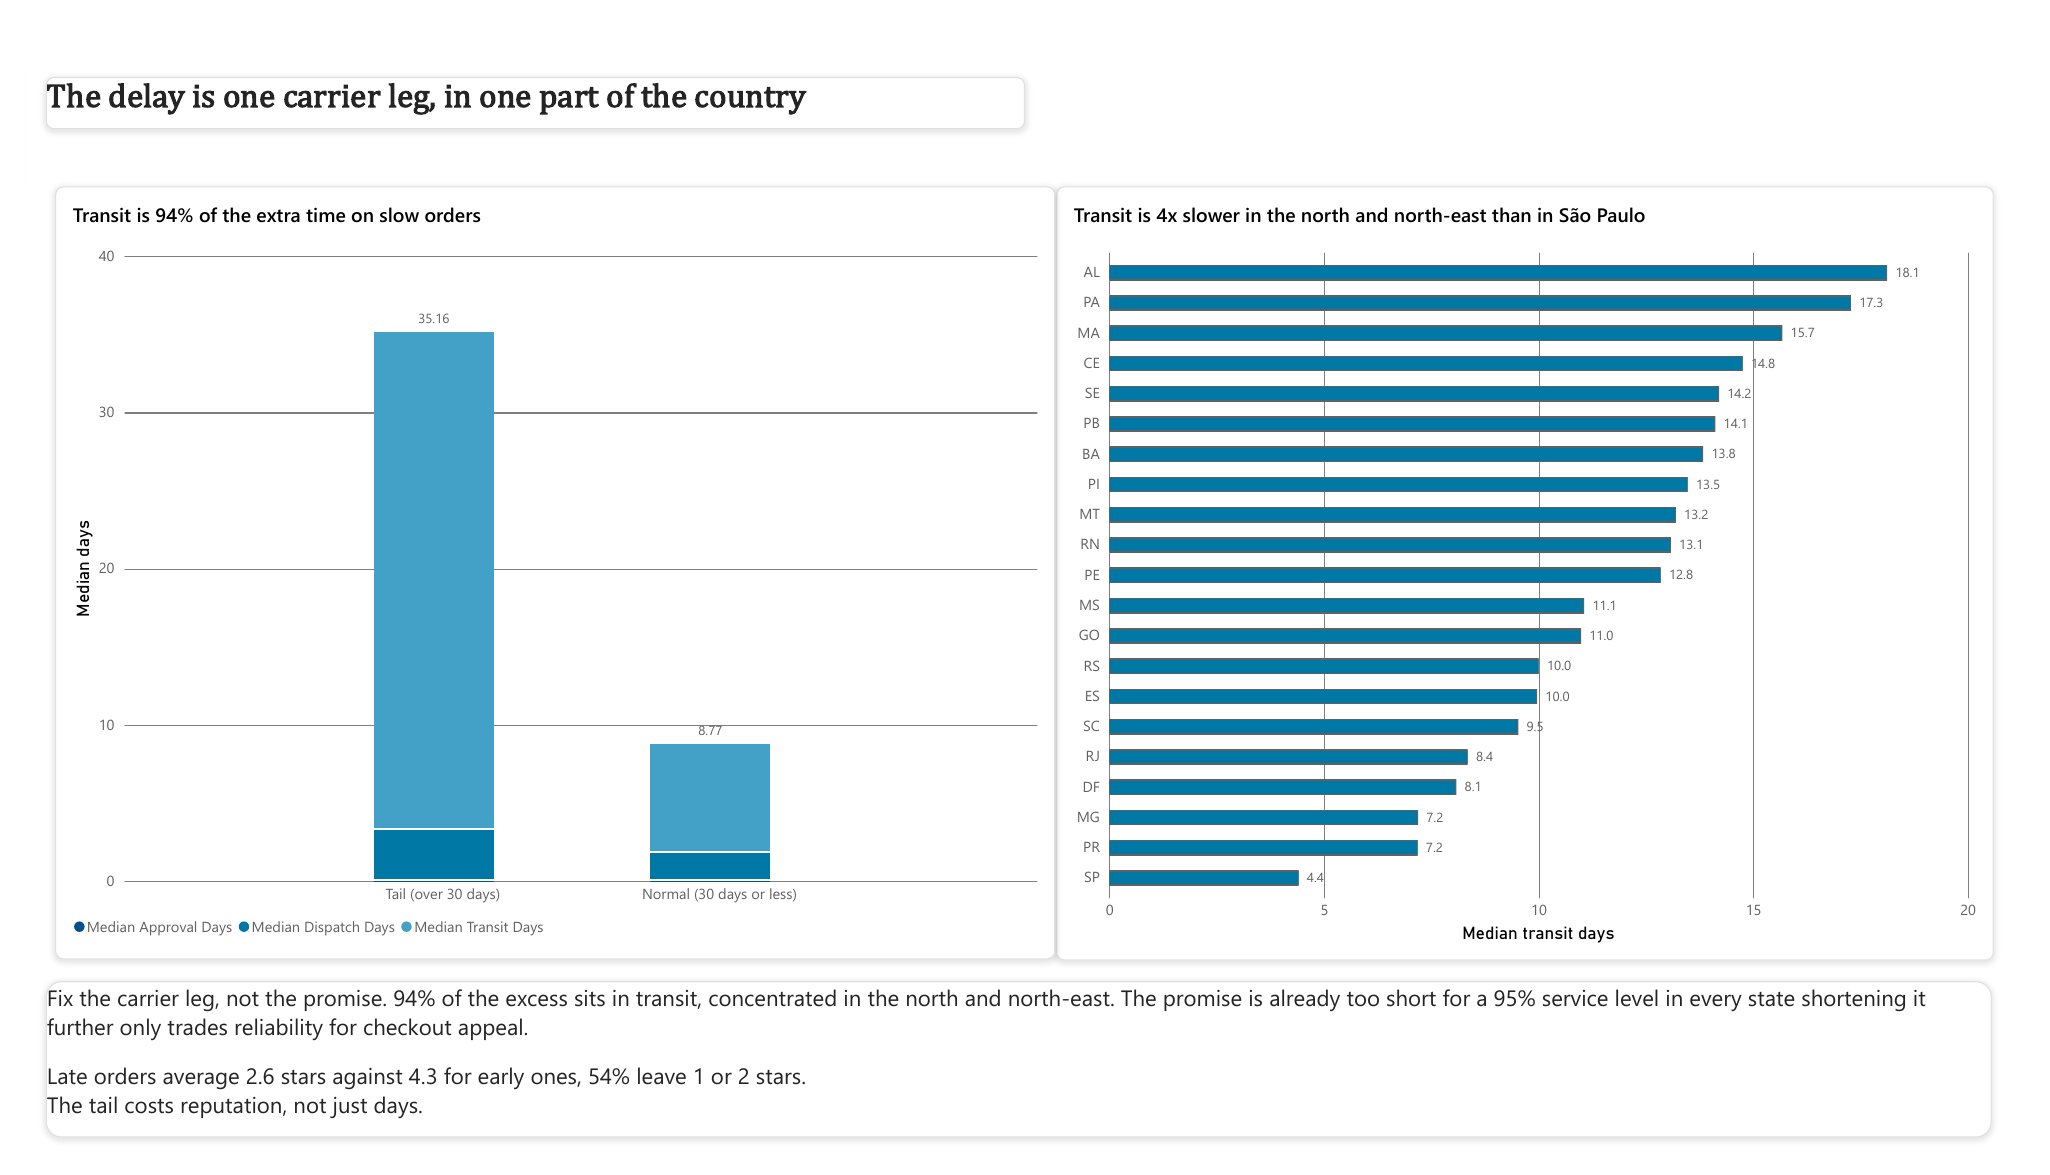

Layout of this report page (visuals, bound fields, positions):
{"tool":"powerbi","page":{"name":"Where the delay lives","canvas":[1920,1080],"ordinal":1},"visuals":[{"type":"clusteredBarChart","title":"Transit is 4x slower in the north and north-east than in São Paulo","fields":{"Category":["order_model.customer_state"],"Y":["order_model.Median Transit Days"]},"box":[990,155,900,742.5],"z":0},{"type":"columnChart","title":"Transit is 94% of the extra time on slow orders","fields":{"Category":["order_model.Delivery Band"],"Y":["order_model.Median Approval Days","order_model.Median Dispatch Days","order_model.Median Transit Days"]},"box":[29.4,154.8,960,742.5],"z":1000},{"type":"textbox","box":[20,50,940,50],"z":2000},{"type":"textbox","box":[20,917.5,1867.5,150],"z":3000}]}

Visuals, with their boxes in screenshot pixels (x1, y1, x2, y2), scaled from the page's 1920x1080 canvas onto the 2050x1175 screenshot:
"Transit is 4x slower in the north and north-east than in São Paulo" clusteredBarChart: rect(1057, 169, 2018, 976)
"Transit is 94% of the extra time on slow orders" columnChart: rect(31, 168, 1056, 976)
textbox: rect(21, 54, 1025, 109)
textbox: rect(21, 998, 2015, 1161)
